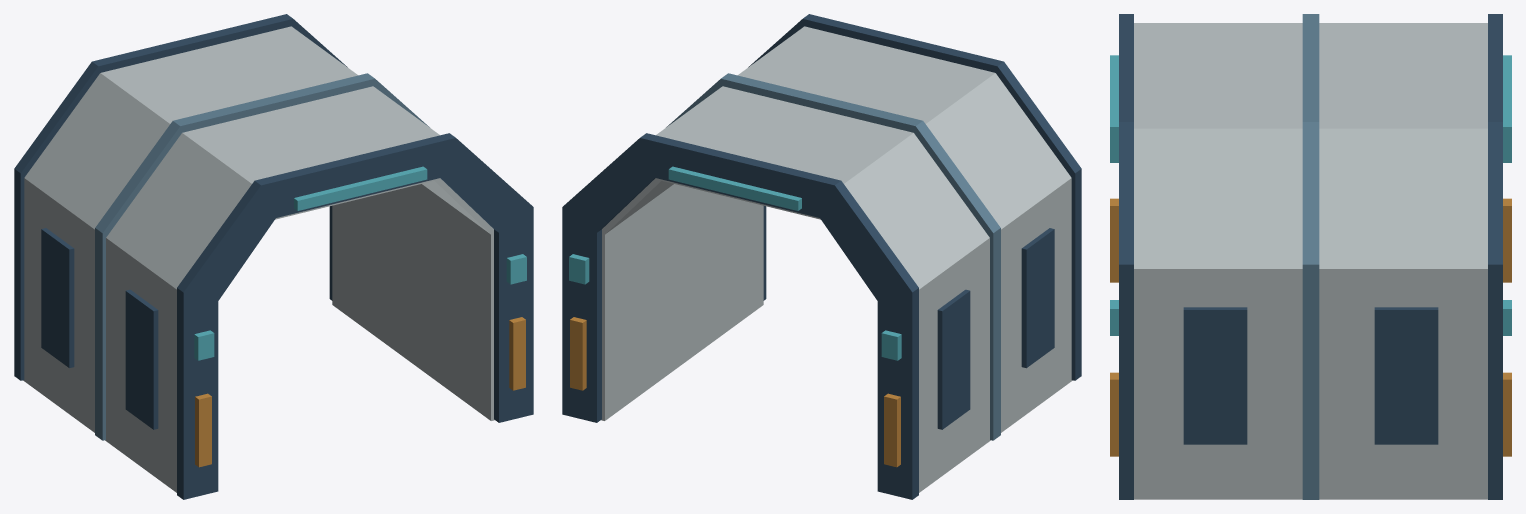
Rendered from SpaceStation_AirlockTunnel_Standard.glb.
3 renders of one model, left to right at view 1: azimuth 30°, elevation 25°; view 2: azimuth 150°, elevation 25°; view 3: azimuth 270°, elevation 25°, orthographic. The views are drawn at different scales.
Visible parts, largest first — view 1: SpaceStation_AirlockTunnel_Standard; view 2: SpaceStation_AirlockTunnel_Standard; view 3: SpaceStation_AirlockTunnel_Standard.
Part boxes in pixels (bbox=[...]): SpaceStation_AirlockTunnel_Standard: bbox=[14, 14, 533, 499]; SpaceStation_AirlockTunnel_Standard: bbox=[562, 14, 1081, 499]; SpaceStation_AirlockTunnel_Standard: bbox=[1110, 14, 1511, 499].
Bounding box in the file's own units: 4.36 × 3.5 × 3.79.
